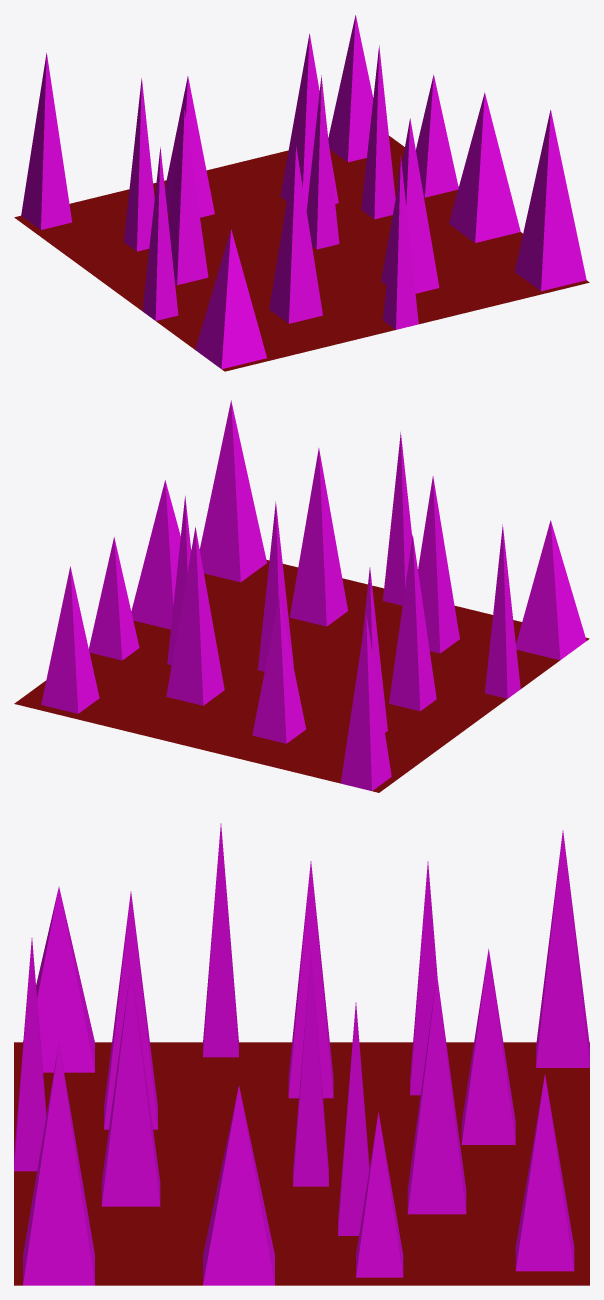
Rendered from spikedpit-low.obj.
3 renders of one model, top to bottom at view 1: azimuth 30°, elevation 25°; view 2: azimuth 150°, elevation 25°; view 3: azimuth 270°, elevation 25°, orthographic. The views are drawn at different scales.
Visible parts, largest first — view 1: spikedpit-low_back; view 2: spikedpit-low_back; view 3: spikedpit-low_back.
Part boxes in pixels (x1=…): spikedpit-low_back: x1=14, y1=15, x2=589, y2=371; spikedpit-low_back: x1=14, y1=400, x2=589, y2=792; spikedpit-low_back: x1=14, y1=823, x2=589, y2=1285.
Bounding box in the file's own units: 2.56 × 1.12 × 2.56.
